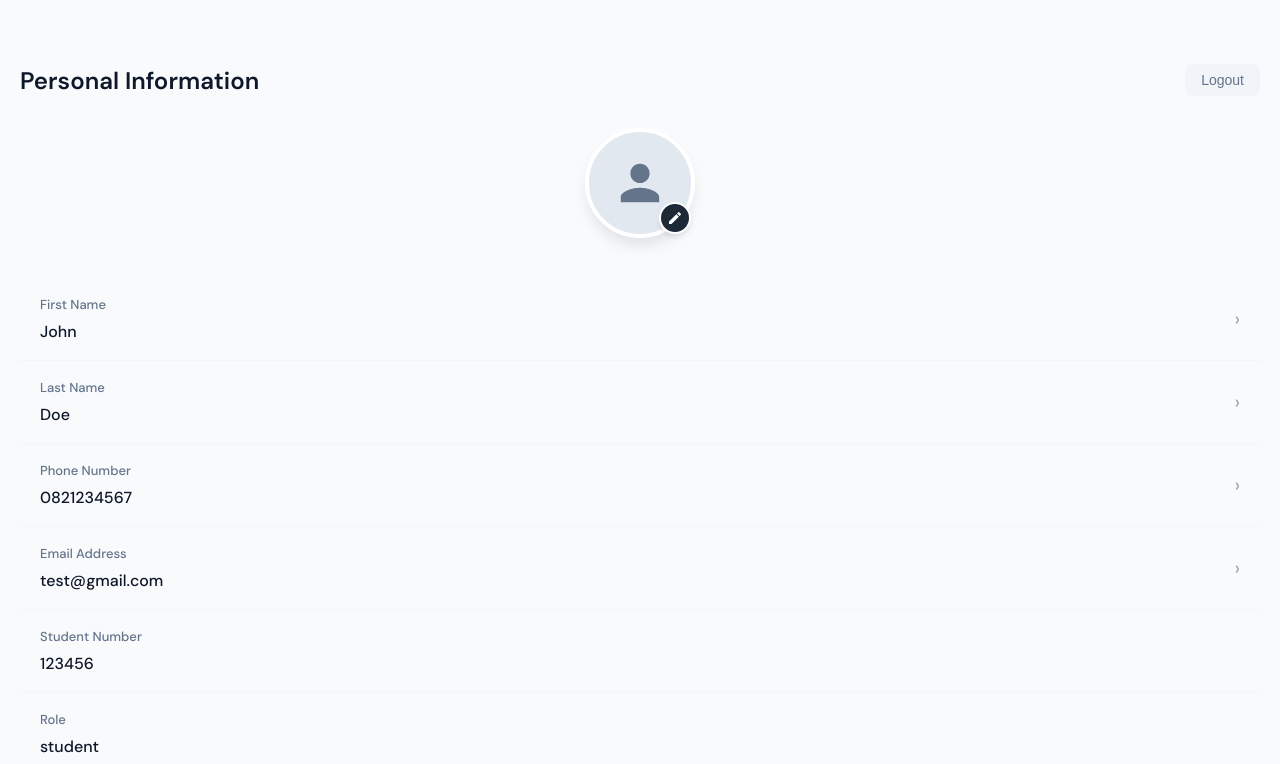
Profile Component › Edit mode › shows error message when save fails
The image size is (1280, 764).
Click the text "John".
click(58, 332)  # box [40,321,77,342]
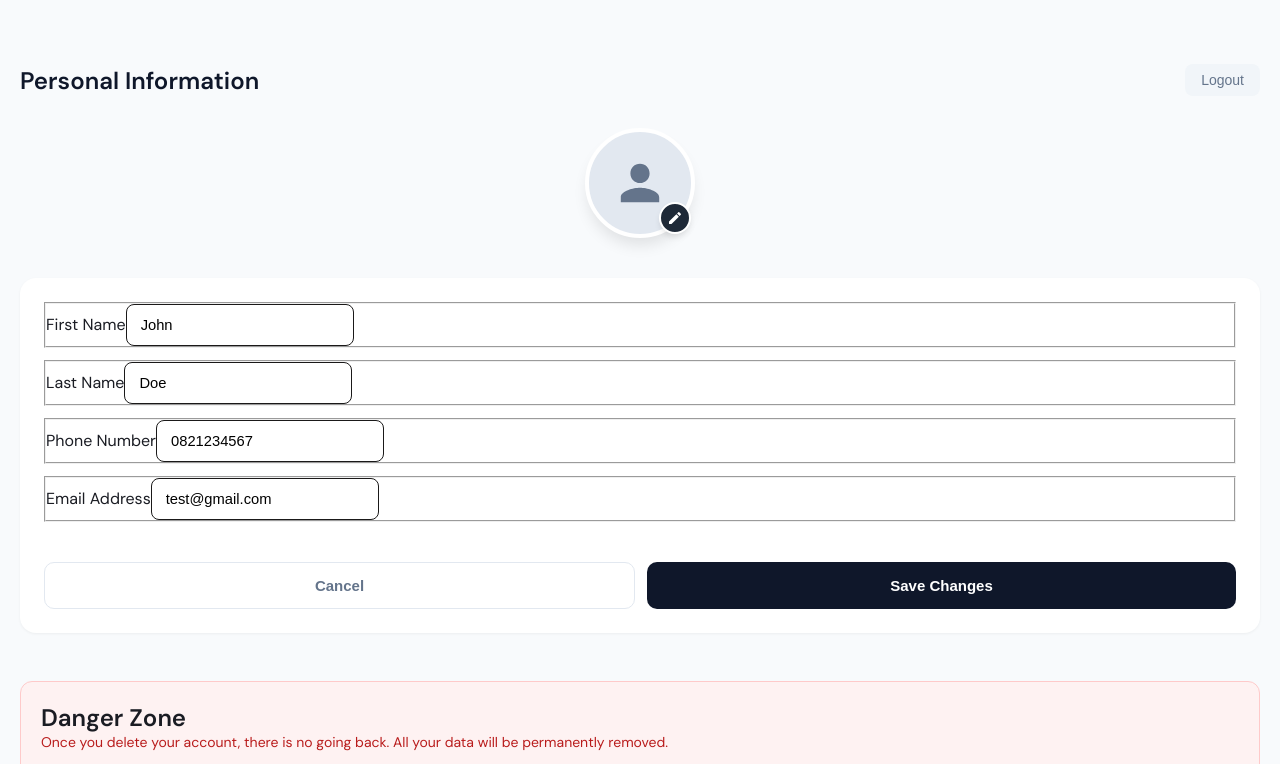
Click the button "Save Changes".
click(942, 586)  # box [647,562,1236,609]
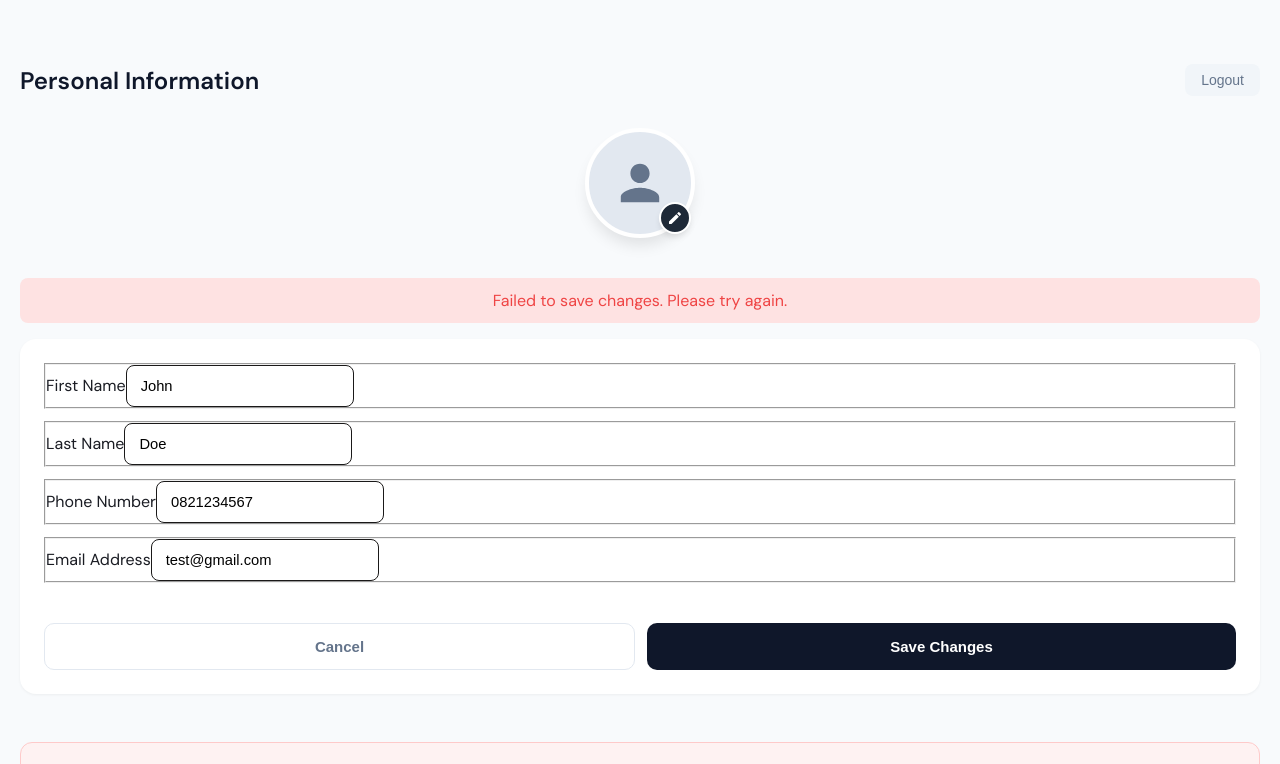
Now the text "Failed to save changes. Please try again." is shown, box [20,278,1260,323]
